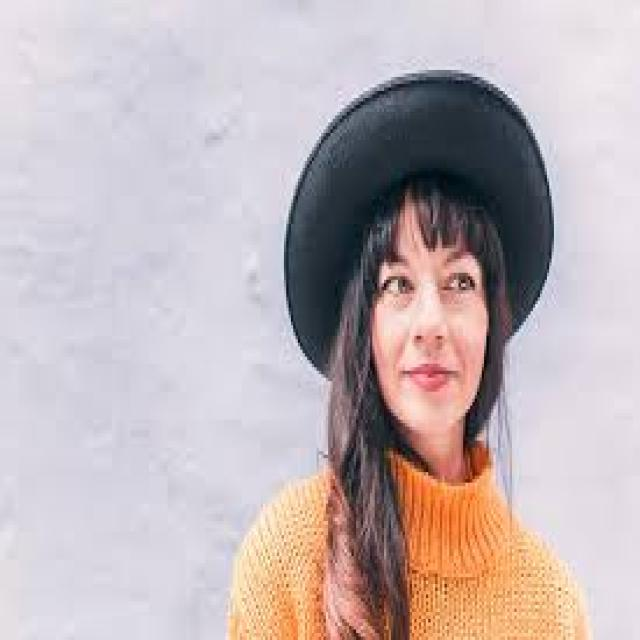hat: (284, 70, 556, 434)
